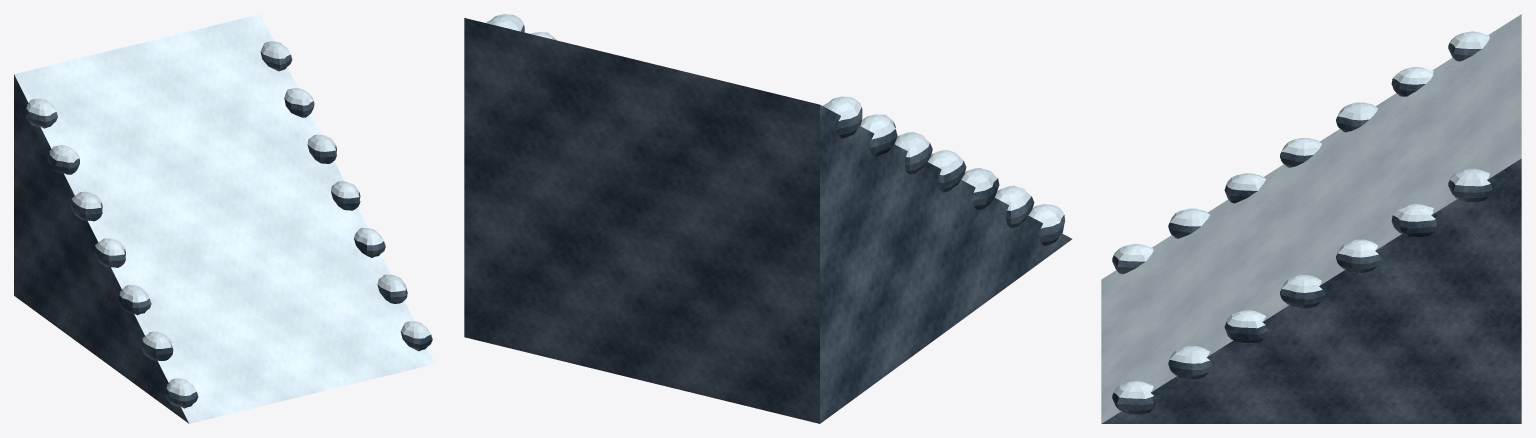
Rendered from ThirdRoom_RockRamp.fbx.
3 views of the same model, side by side, from view 1: azimuth 30°, elevation 25°; view 2: azimuth 150°, elevation 25°; view 3: azimuth 270°, elevation 25° (orthographic). The views are drawn at different scales.
Parts seen in each view (by area): view 1: WO_ThirdRoom_RockRamp_LOD0; view 2: WO_ThirdRoom_RockRamp_LOD0; view 3: WO_ThirdRoom_RockRamp_LOD0.
Part boxes in pixels (bbox=[...]): WO_ThirdRoom_RockRamp_LOD0: bbox=[14, 14, 435, 423]; WO_ThirdRoom_RockRamp_LOD0: bbox=[464, 14, 1071, 423]; WO_ThirdRoom_RockRamp_LOD0: bbox=[1101, 14, 1521, 423].
Size of what is drawn, in the model's own units: 5.13 by 4.18 by 6.
